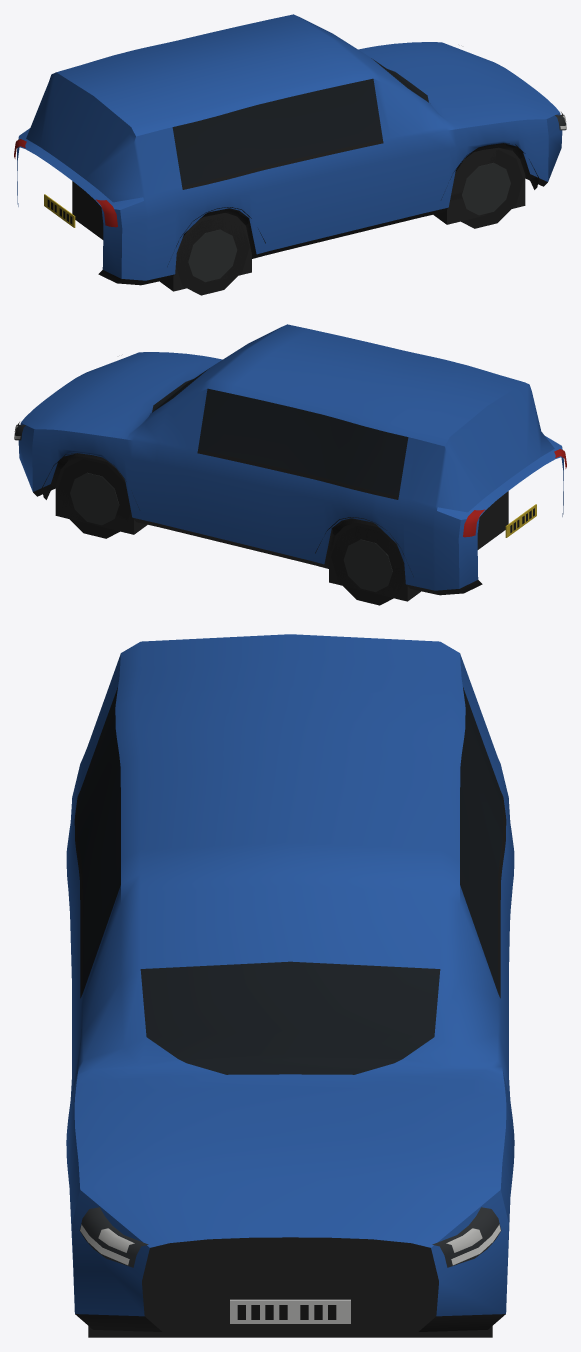
File: SM_Prop_parked_car_108_LOD1.glb
3 views of the same model, one above another, from view 1: azimuth 30°, elevation 25°; view 2: azimuth 150°, elevation 25°; view 3: azimuth 270°, elevation 25° (orthographic). The views are drawn at different scales.
Parts seen in each view (by area): view 1: SM_Prop_parked_car_108_LOD1; view 2: SM_Prop_parked_car_108_LOD1; view 3: SM_Prop_parked_car_108_LOD1.
Boxes of the visible parts, left/top/right/bottom form: SM_Prop_parked_car_108_LOD1: left=14, top=14, right=566, bottom=295; SM_Prop_parked_car_108_LOD1: left=14, top=324, right=566, bottom=605; SM_Prop_parked_car_108_LOD1: left=66, top=634, right=514, bottom=1337.
Size of the model in its own units: 4.65 by 1.7 by 1.93.
